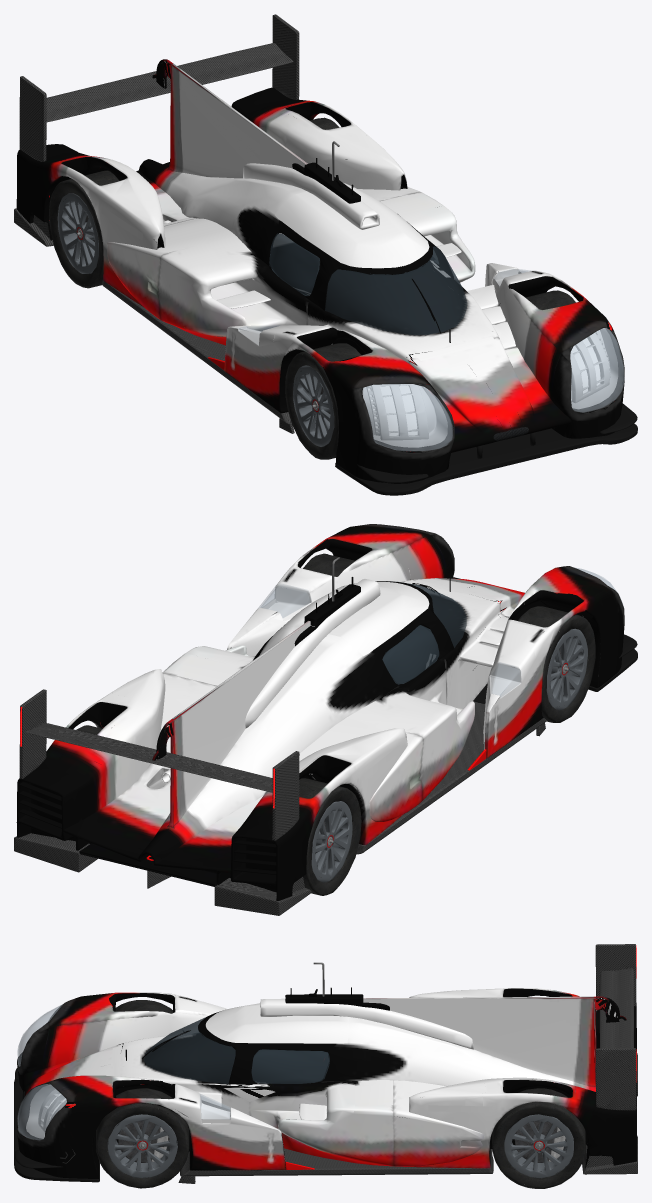
The model's file is porsche-919-hybrid-distance.glb.
3 views of the same model, one above another, from view 1: azimuth 30°, elevation 25°; view 2: azimuth 150°, elevation 25°; view 3: azimuth 270°, elevation 25° (orthographic). The views are drawn at different scales.
Visible parts, largest first — view 1: body, wheel_front_right, wheel_rear_right; view 2: body, wheel_front_right, wheel_rear_right, wheel_front_left; view 3: body, wheel_front_left, wheel_rear_left, wheel_front_right.
Part boxes in pixels (x1,y1,x2,y2): body: (14, 14, 637, 495); wheel_front_right: (285, 343, 361, 459); wheel_rear_right: (49, 170, 119, 288); body: (14, 524, 637, 915); wheel_front_right: (517, 606, 595, 722); wheel_rear_right: (299, 778, 361, 895); wheel_front_left: (303, 553, 355, 576); body: (14, 944, 637, 1183); wheel_front_left: (96, 1088, 189, 1188); wheel_rear_left: (492, 1088, 585, 1188); wheel_front_right: (115, 1000, 172, 1013).
Size of the model in its own units: 1.93 by 1.43 by 4.65.
29 materials, 10 textured.
